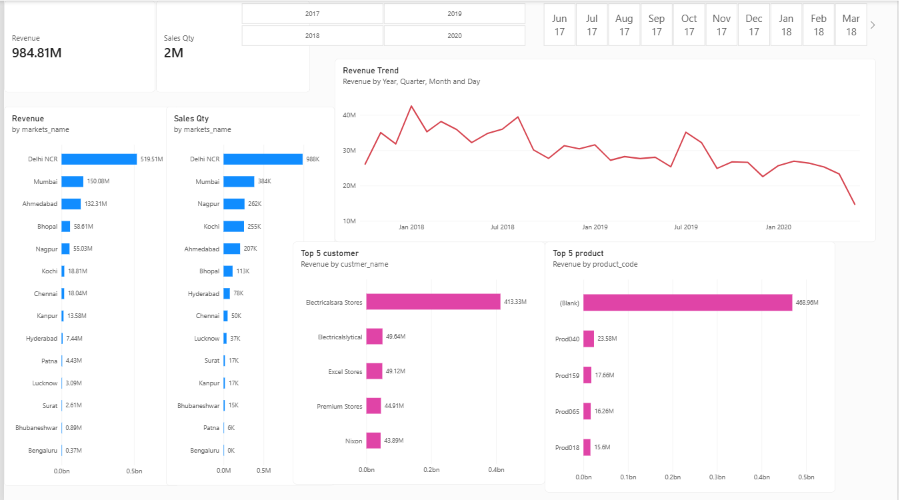

The dashboard page shown, as its layout file describes it:
{"tool":"powerbi","page":{"name":"Page 1","canvas":[1920,1080],"ordinal":0},"visuals":[{"type":"cardVisual","fields":{"Data":["Basemeasures.Revenue"]},"box":[0,0,325.7,197.1],"z":0},{"type":"cardVisual","fields":{"Data":["Basemeasures.Sales Qty"]},"box":[325.7,0,331.4,197.1],"z":1000},{"type":"barChart","fields":{"Category":["sales markets.markets_name"],"Y":["Basemeasures.Revenue"]},"box":[0,228.2,377.3,814.5],"z":2000},{"type":"barChart","fields":{"Category":["sales markets.markets_name"],"Y":["Basemeasures.Sales Qty"]},"box":[348.6,228.6,362.9,814.3],"z":3000},{"type":"slicer","fields":{"Values":["sales date.year"]},"box":[490.4,2.8,649.1,96.4],"z":4000},{"type":"slicer","fields":{"Values":["sales date.cy_date"]},"box":[1139.5,2.8,734.2,96.4],"z":5000},{"type":"barChart","title":"Top 5 customer","fields":{"Category":["sales customers.custmer_name"],"Y":["Basemeasures.Revenue"]},"box":[620.8,518.7,541.4,521.6],"z":5001},{"type":"barChart","title":"Top 5 product","fields":{"Category":["sales products.product_code"],"Y":["Basemeasures.Revenue"]},"box":[1162.2,518.7,623.6,538.6],"z":5002},{"type":"lineChart","title":"Revenue Trend","fields":{"Category":["sales date.cy_date.Variation.Date Hierarchy.Year","sales date.cy_date.Variation.Date Hierarchy.Quarter","sales date.cy_date.Variation.Date Hierarchy.Month","sales date.cy_date.Variation.Date Hierarchy.Day"],"Y":["Basemeasures.Revenue"]},"box":[711.5,124.7,1162.2,394],"z":5003}]}

Visuals, with their boxes in screenshot pixels (x1, y1, x2, y2), scaled from the page's 1920x1080 canvas onto the 899x500 screenshot:
cardVisual - Basemeasures.Revenue: box(0, 0, 153, 91)
cardVisual - Basemeasures.Sales Qty: box(153, 0, 308, 91)
barChart - sales markets.markets_name x Basemeasures.Revenue: box(0, 106, 177, 483)
barChart - sales markets.markets_name x Basemeasures.Sales Qty: box(163, 106, 333, 483)
slicer - sales date.year: box(230, 1, 534, 46)
slicer - sales date.cy_date: box(534, 1, 877, 46)
"Top 5 customer" barChart: box(291, 240, 544, 482)
"Top 5 product" barChart: box(544, 240, 836, 489)
"Revenue Trend" lineChart: box(333, 58, 877, 240)
